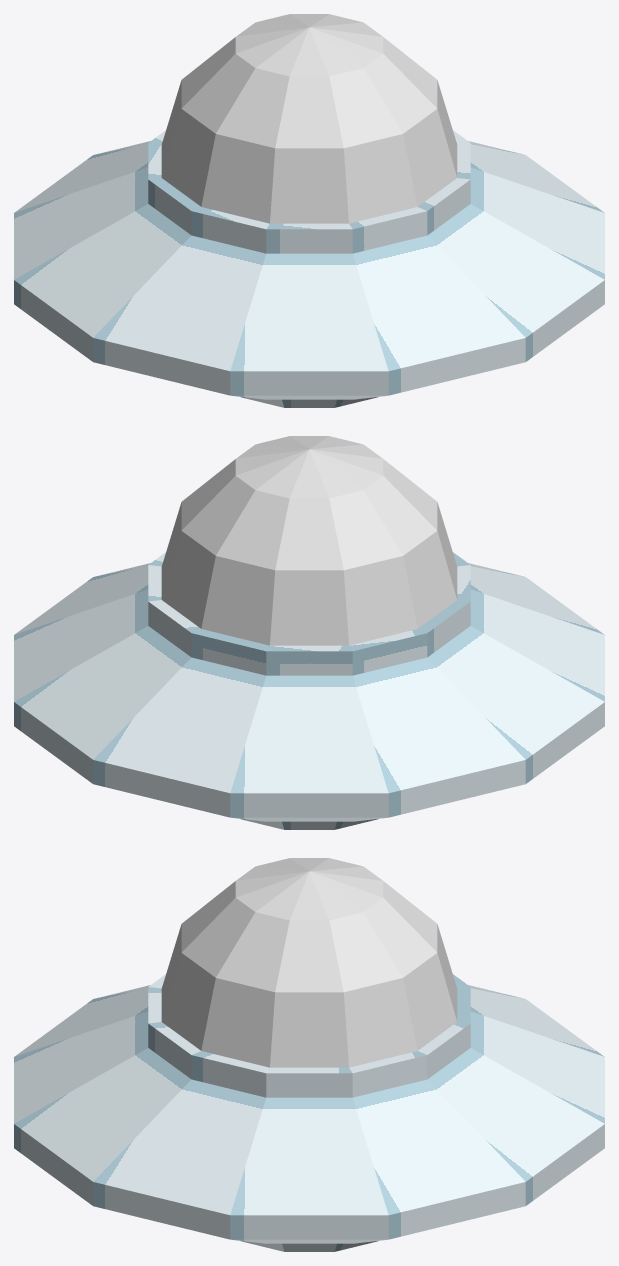
File: UFO.fbx
The picture shows the model from 3 angles, top to bottom: view 1: azimuth 30°, elevation 25°; view 2: azimuth 150°, elevation 25°; view 3: azimuth 270°, elevation 25°; orthographic projection.
Parts seen in each view (by area): view 1: Body, Dome; view 2: Body, Dome; view 3: Body, Dome.
Part boxes in pixels (x1,y1,x2,y2): Body: (14,130,604,407); Dome: (161,14,457,223); Body: (14,552,604,829); Dome: (161,436,457,645); Body: (14,974,604,1251); Dome: (161,858,457,1067).
Size of the model in its own units: 275 by 175 by 275.
Materials: 1 (1 with a texture image).
